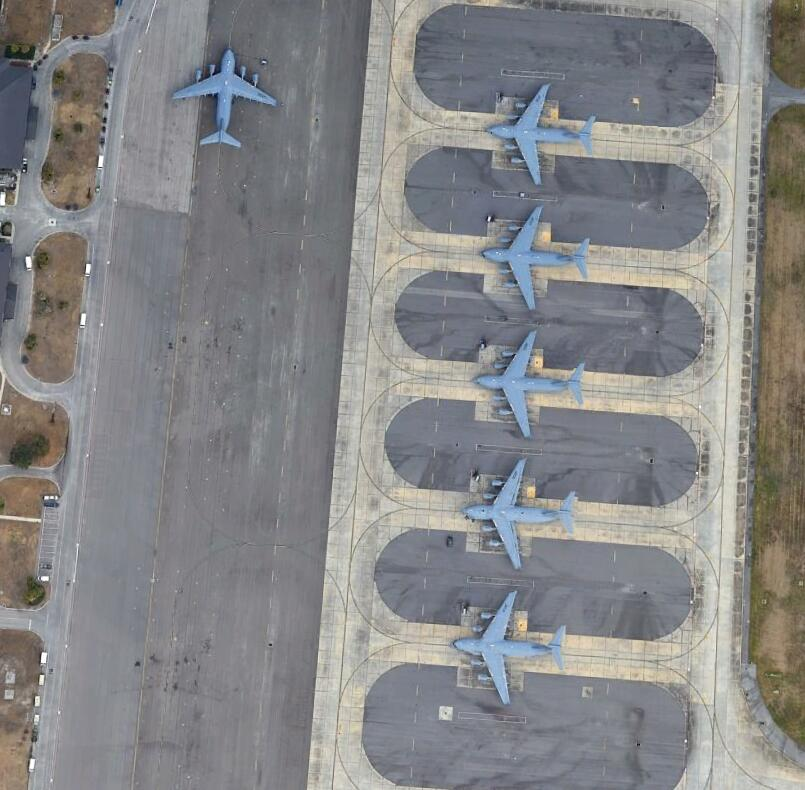A3: (453, 588, 566, 710), (462, 456, 578, 569), (477, 328, 586, 441), (486, 81, 596, 189), (482, 204, 592, 311), (169, 48, 281, 150)
